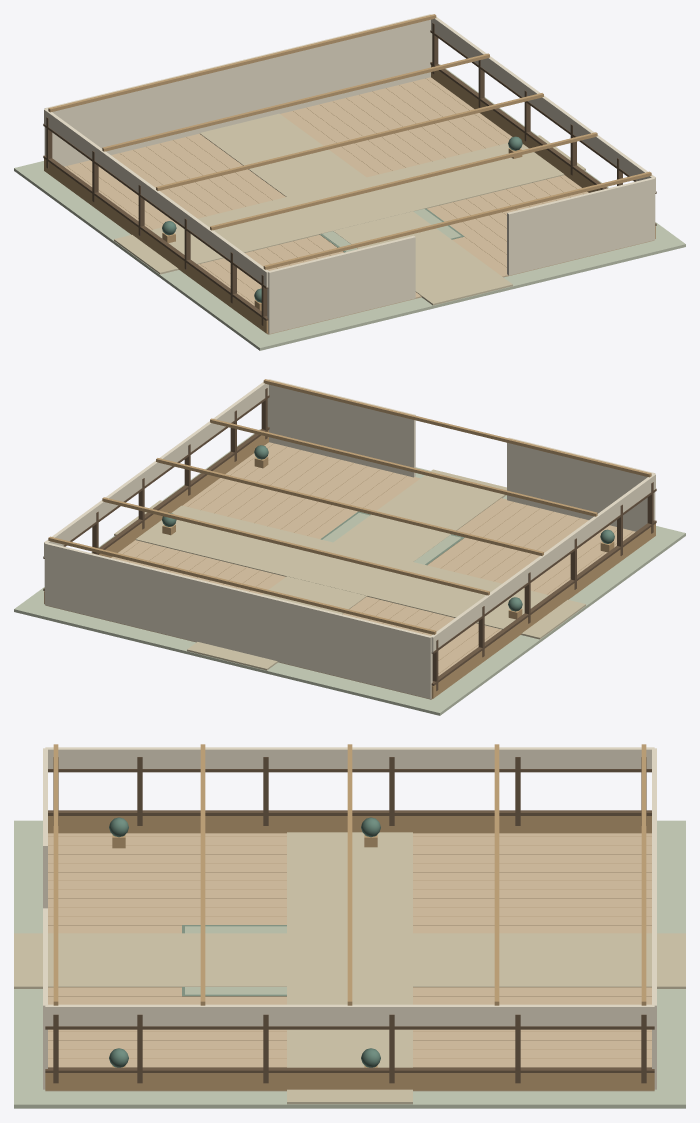
3 views of the same model, one above another, from view 1: azimuth 30°, elevation 25°; view 2: azimuth 150°, elevation 25°; view 3: azimuth 270°, elevation 25° (orthographic). The views are drawn at different scales.
Visible parts, largest first — view 1: object 6, object 4, object 3, object 7, object 2, terrain, object 8, object 5, object 10; view 2: object 6, object 4, object 7, object 3, terrain, object 2, object 8, object 5, object 10, object 11; view 3: object 4, object 6, object 2, object 7, object 3, terrain, object 8, object 5, object 10, object 11.
Boxes of the visible parts, bbox=[...] form: object 6: bbox=[44, 14, 655, 333]; object 4: bbox=[64, 77, 654, 334]; object 3: bbox=[114, 135, 585, 274]; object 7: bbox=[44, 14, 655, 333]; object 2: bbox=[199, 113, 512, 305]; terrain: bbox=[14, 64, 685, 350]; object 8: bbox=[43, 23, 656, 325]; object 5: bbox=[66, 78, 583, 303]; object 10: bbox=[322, 209, 461, 251]; object 6: bbox=[44, 379, 655, 698]; object 4: bbox=[45, 442, 635, 699]; object 7: bbox=[44, 379, 655, 698]; object 3: bbox=[114, 500, 585, 639]; terrain: bbox=[14, 429, 685, 715]; object 2: bbox=[187, 469, 506, 670]; object 8: bbox=[43, 388, 656, 690]; object 5: bbox=[116, 443, 633, 673]; object 10: bbox=[322, 513, 461, 564]; object 11: bbox=[162, 445, 614, 611]; object 4: bbox=[45, 833, 654, 1091]; object 6: bbox=[43, 747, 656, 1089]; object 2: bbox=[14, 933, 685, 988]; object 7: bbox=[45, 744, 654, 1090]; object 3: bbox=[287, 832, 412, 1104]; terrain: bbox=[14, 820, 685, 1108]; object 8: bbox=[45, 757, 654, 1083]; object 5: bbox=[48, 836, 651, 1067]; object 10: bbox=[185, 926, 286, 994]; object 11: bbox=[109, 817, 380, 1067].
Size of the model in its own units: 32 by 4.91 by 32.
